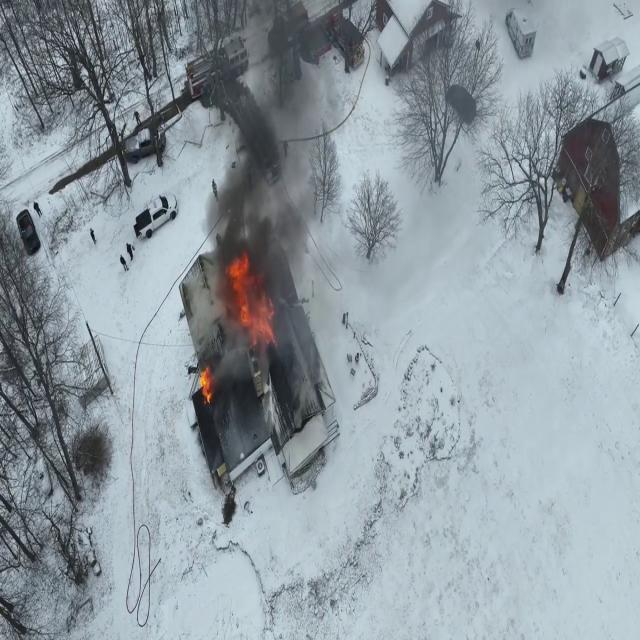Fire: (222, 260, 280, 345), (192, 365, 216, 410)
Smoke: (190, 4, 323, 271)
